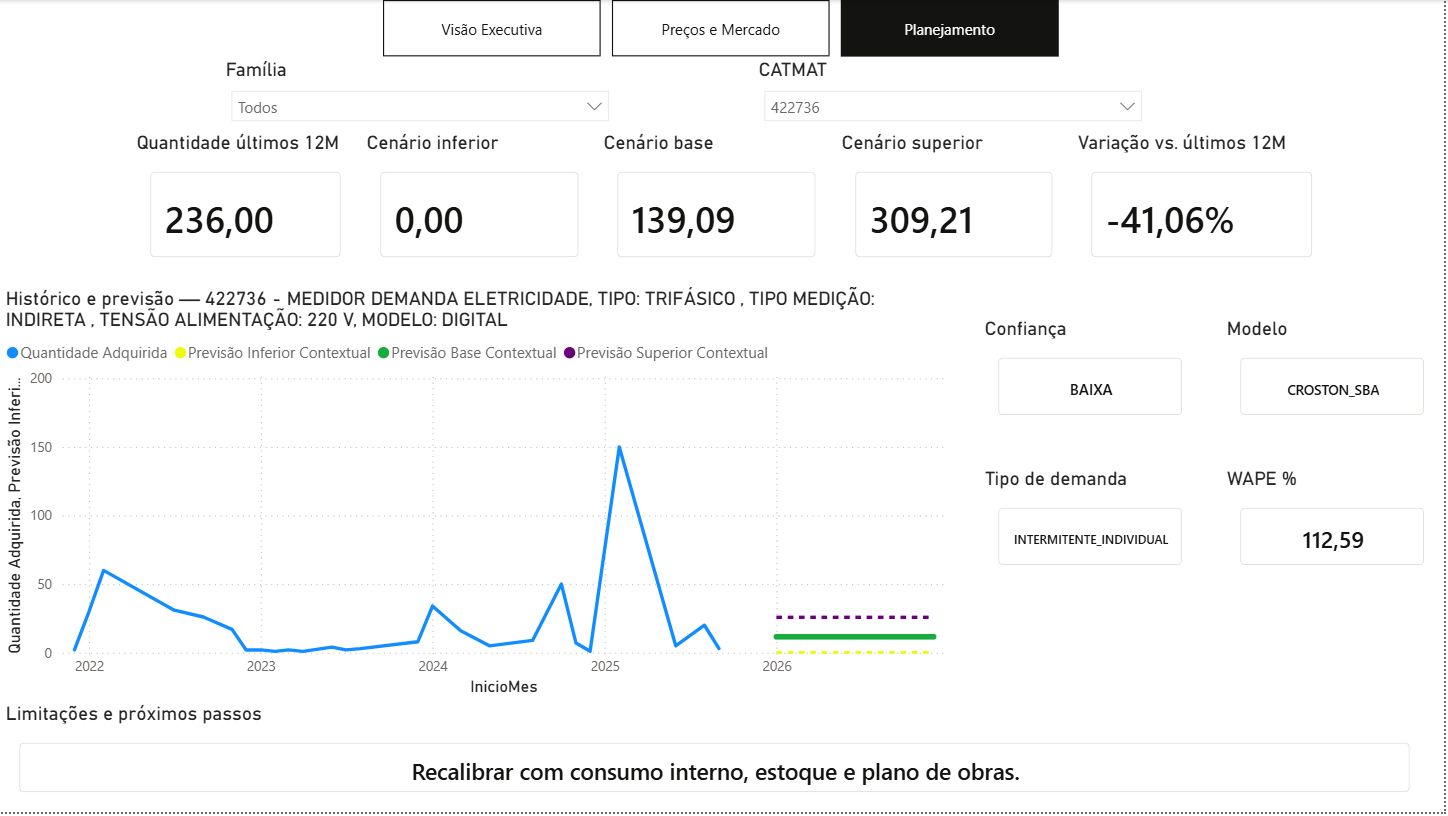

This screenshot's page, from the dashboard's own definition file:
{"tool":"powerbi","page":{"name":"Planejamento","canvas":[1280,720],"ordinal":2},"visuals":[{"type":"cardVisual","title":"Quantidade últimos 12M","fields":{"Data":["Medidas.Quantidade Últimos 12M Contextual"]},"box":[116.5,115.9,203.7,129.6],"z":0},{"type":"cardVisual","title":"Cenário inferior","fields":{"Data":["Medidas.Previsão Inferior Contextual"]},"box":[320.1,116.3,210.6,129.7],"z":1000},{"type":"cardVisual","title":"Cenário base","fields":{"Data":["Medidas.Previsão Base Contextual"]},"box":[530.6,116.3,210.6,129.7],"z":2000},{"type":"cardVisual","title":"Cenário superior","fields":{"Data":["Medidas.Previsão Superior Contextual"]},"box":[741.2,116.3,209.4,129.7],"z":3000},{"type":"cardVisual","title":"Variação vs. últimos 12M","fields":{"Data":["Medidas.Variação Previsão vs Últimos 12M Contextual"]},"box":[950.5,116.2,230.5,129.5],"z":4000},{"type":"slicer","title":"Família","fields":{"Values":["DimMaterial.FamiliaMaterial"]},"box":[195.1,51.4,354.7,64.7],"z":5000},{"type":"slicer","title":"CATMAT","fields":{"Values":["DimMaterial.CodigoCATMAT"]},"box":[667.7,51.4,354.7,64.7],"z":6000},{"type":"lineChart","fields":{"Category":["DimCalendario.InicioMes"],"Y":["Medidas.Quantidade Adquirida","Medidas.Previsão Inferior Contextual","Medidas.Previsão Base Contextual","Medidas.Previsão Superior Contextual"]},"box":[0,254.6,845.8,367.6],"z":7000},{"type":"cardVisual","title":"Confiança","fields":{"Data":["Medidas.Confiança Selecionada"]},"box":[868.1,281.1,197.7,104.6],"z":8000},{"type":"cardVisual","title":"Modelo","fields":{"Data":["Medidas.Modelo Selecionado"]},"box":[1082.5,280.7,197.5,104.7],"z":9000},{"type":"cardVisual","title":"Tipo de demanda","fields":{"Data":["Medidas.Tipo de Demanda Selecionado"]},"box":[868.1,414.1,197.7,104.6],"z":10000},{"type":"cardVisual","title":"WAPE %","fields":{"Data":["Medidas.WAPE Selecionado"]},"box":[1082.5,414,197.5,104.7],"z":11000},{"type":"cardVisual","title":"Limitações e próximos passos","fields":{"Data":["Medidas.Próximos Passos Selecionado"]},"box":[0,622.5,1268,97.2],"z":12000},{"type":"pageNavigator","box":[339.8,0,600.4,50.1],"z":13000}]}

Visuals, with their boxes in screenshot pixels (x1, y1, x2, y2), scaled from the page's 1280x720 canvas onto the 1448x816 screenshot:
"Quantidade últimos 12M" cardVisual: [left=132, top=131, right=362, bottom=278]
"Cenário inferior" cardVisual: [left=362, top=132, right=600, bottom=279]
"Cenário base" cardVisual: [left=600, top=132, right=838, bottom=279]
"Cenário superior" cardVisual: [left=838, top=132, right=1075, bottom=279]
"Variação vs. últimos 12M" cardVisual: [left=1075, top=132, right=1336, bottom=278]
"Família" slicer: [left=221, top=58, right=622, bottom=132]
"CATMAT" slicer: [left=755, top=58, right=1157, bottom=132]
lineChart - DimCalendario.InicioMes x Medidas.Quantidade Adquirida: [left=0, top=289, right=957, bottom=705]
"Confiança" cardVisual: [left=982, top=319, right=1206, bottom=437]
"Modelo" cardVisual: [left=1225, top=318, right=1447, bottom=437]
"Tipo de demanda" cardVisual: [left=982, top=469, right=1206, bottom=588]
"WAPE %" cardVisual: [left=1225, top=469, right=1447, bottom=588]
"Limitações e próximos passos" cardVisual: [left=0, top=706, right=1434, bottom=815]
pageNavigator: [left=384, top=0, right=1064, bottom=57]
